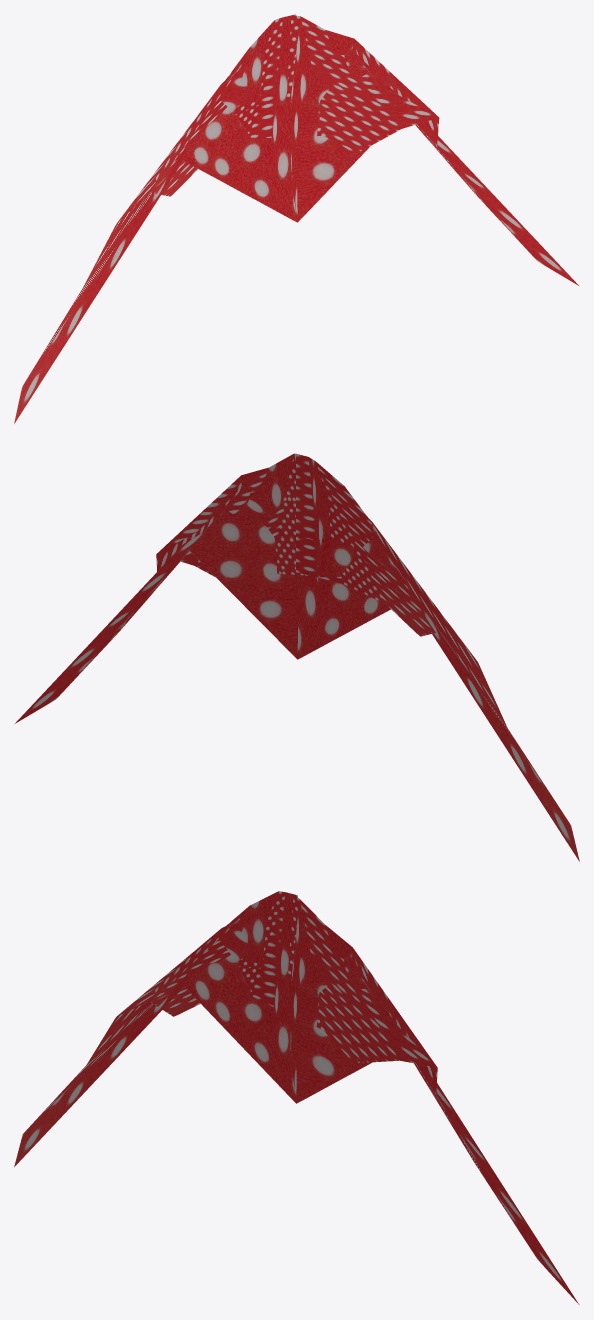
3 views of the same model, one above another, from view 1: azimuth 30°, elevation 25°; view 2: azimuth 150°, elevation 25°; view 3: azimuth 330°, elevation 25° (orthographic).
Visible parts, largest first — view 1: Origami_Model_93; view 2: Origami_Model_93; view 3: Origami_Model_93.
Boxes of the visible parts, x1,y1,x2,y2 form: Origami_Model_93: (14, 14, 578, 423); Origami_Model_93: (15, 453, 579, 861); Origami_Model_93: (14, 891, 579, 1304).
Size of the model in its own units: 0.8 by 0.46 by 0.0075.
Materials: 1 (1 with a texture image).
